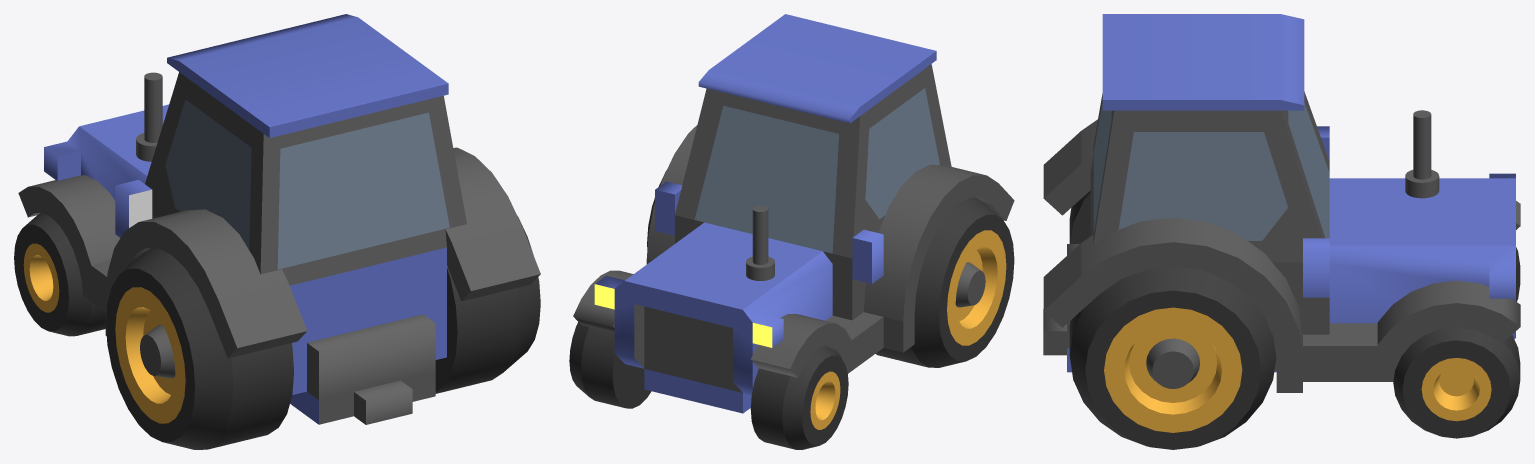
The model's file is tractor.glb.
The picture shows the model from 3 angles, left to right: view 1: azimuth 30°, elevation 25°; view 2: azimuth 150°, elevation 25°; view 3: azimuth 270°, elevation 25°; orthographic projection. The views are drawn at different scales.
Visible parts, largest first — view 1: body, skirts, wheel_backLeft, wheel_backRight, wheel_frontLeft; view 2: body, skirts, wheel_backLeft, wheel_frontLeft, wheel_frontRight; view 3: body, skirts, wheel_backRight, wheel_frontRight, wheel_backLeft.
Part boxes in pixels (x1,y1,x2,y2): body: [44, 14, 466, 424]; skirts: [18, 147, 540, 358]; wheel_backLeft: [106, 248, 293, 449]; wheel_backRight: [435, 215, 540, 393]; wheel_frontLeft: [14, 213, 105, 336]; body: [594, 14, 951, 413]; skirts: [573, 125, 1014, 377]; wheel_backLeft: [875, 197, 1014, 367]; wheel_frontLeft: [750, 346, 848, 449]; wheel_frontRight: [569, 322, 651, 408]; body: [1043, 14, 1515, 372]; skirts: [1043, 119, 1520, 392]; wheel_backRight: [1069, 266, 1276, 449]; wheel_frontRight: [1393, 327, 1520, 438]; wheel_backLeft: [1069, 190, 1090, 243].
Size of the model in its own units: 1.66 by 1.51 by 2.02.
